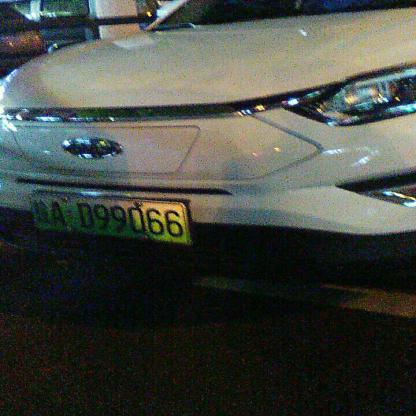lp: (34, 193, 183, 242)
